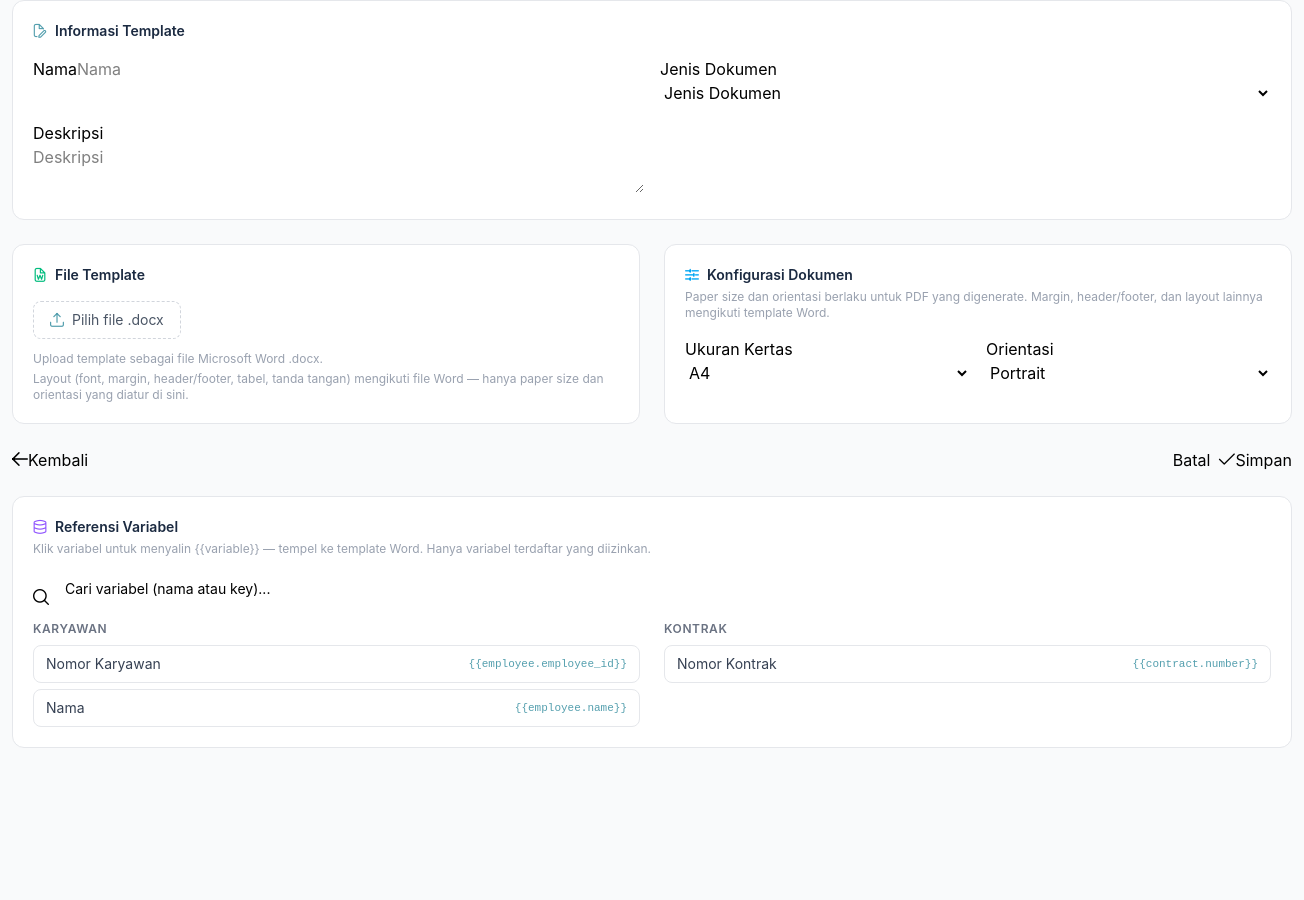
Test: DocumentTemplateForm (create) › validasi: nama kosong menampilkan error dan tidak submit
The width and height of the screenshot is (1304, 900).
What coordinates should you click on to do the following:
click the button "Simpan"
I would click on:
 (1255, 460)
Its box is [1218, 448, 1292, 472].
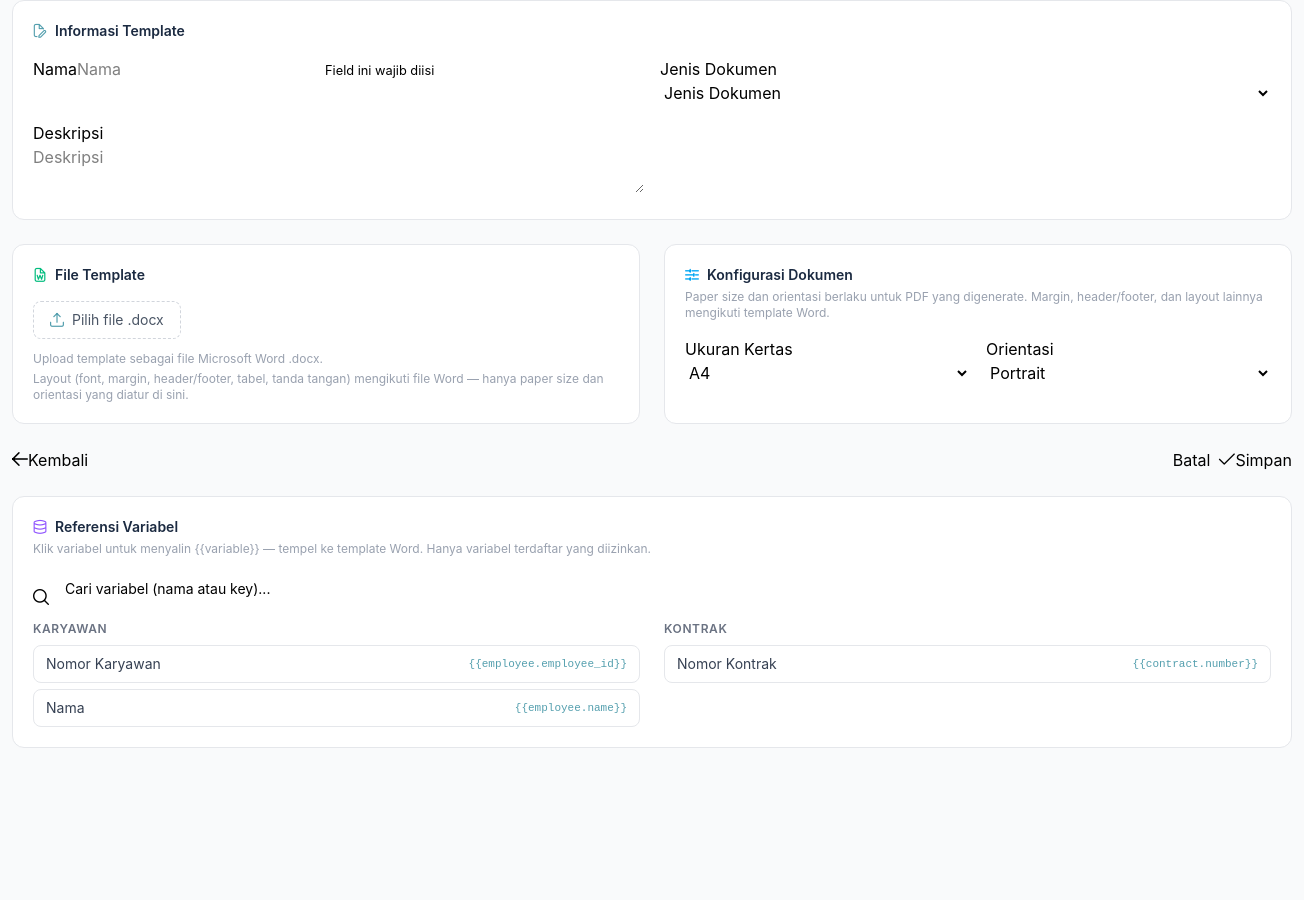
Result: the text "Field ini wajib diisi" is shown at [325, 63, 434, 78]
